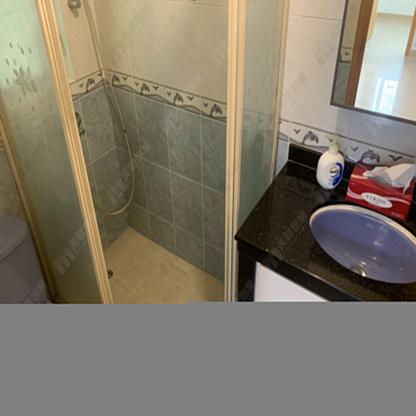Cupboard: (69, 0, 416, 129)
Exhaust Hood: (113, 110, 218, 142)
Faucet: (255, 178, 284, 253)
Sink: (223, 244, 337, 281)
Stove: (110, 223, 213, 264)
